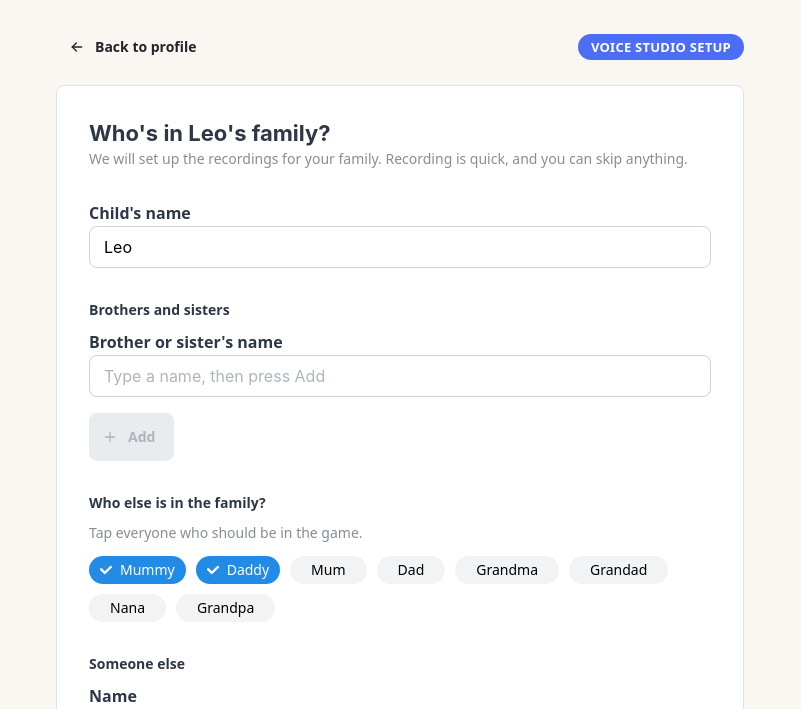
Test case: Voice studio › family step › saves every family name as a word on Continue, then opens the studio
Expected: the heading "Who's in Leo's family?" is shown, [89,120,331,146]
Click the checkbox labelled "Grandma" at coordinates (507, 570), box [455,556,559,584]
(page scrolled)
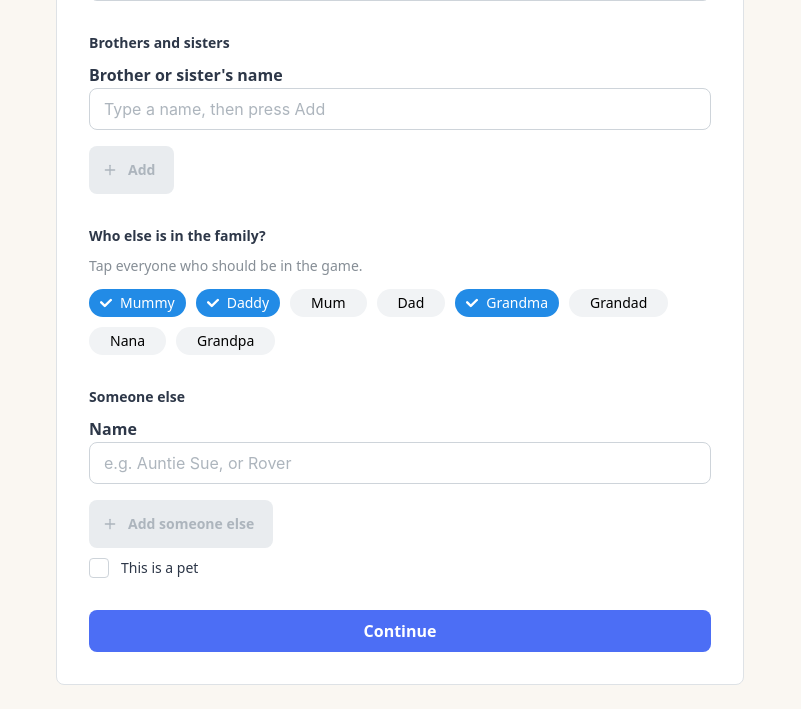
Click the button "Continue" at coordinates (400, 631), box [89,610,711,652]
(page scrolled)
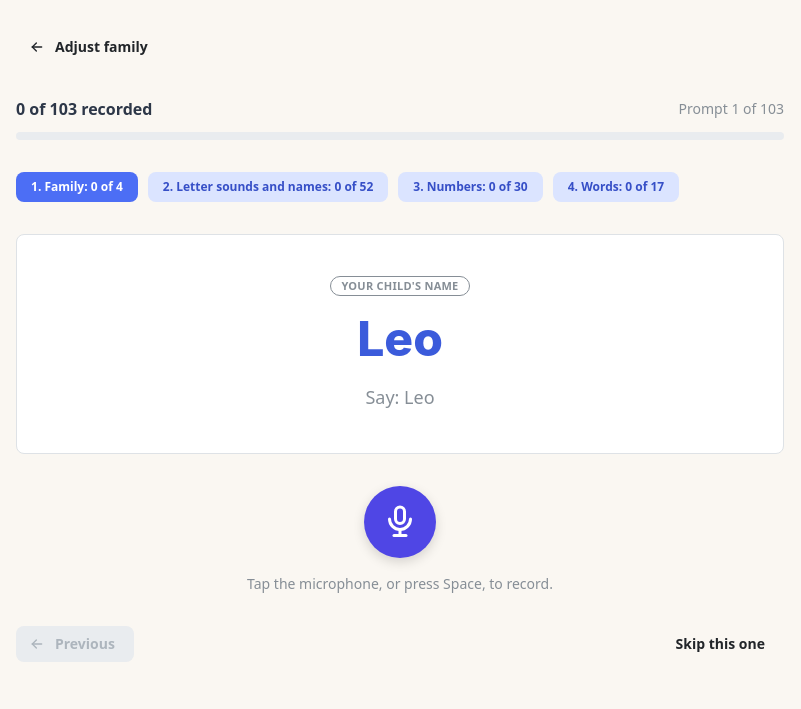
Now the element with test id "prompt-card" is shown, box [16,234,784,454]
Now the text with test id "recorded-count" shows "0 of", box [16,97,152,122]
